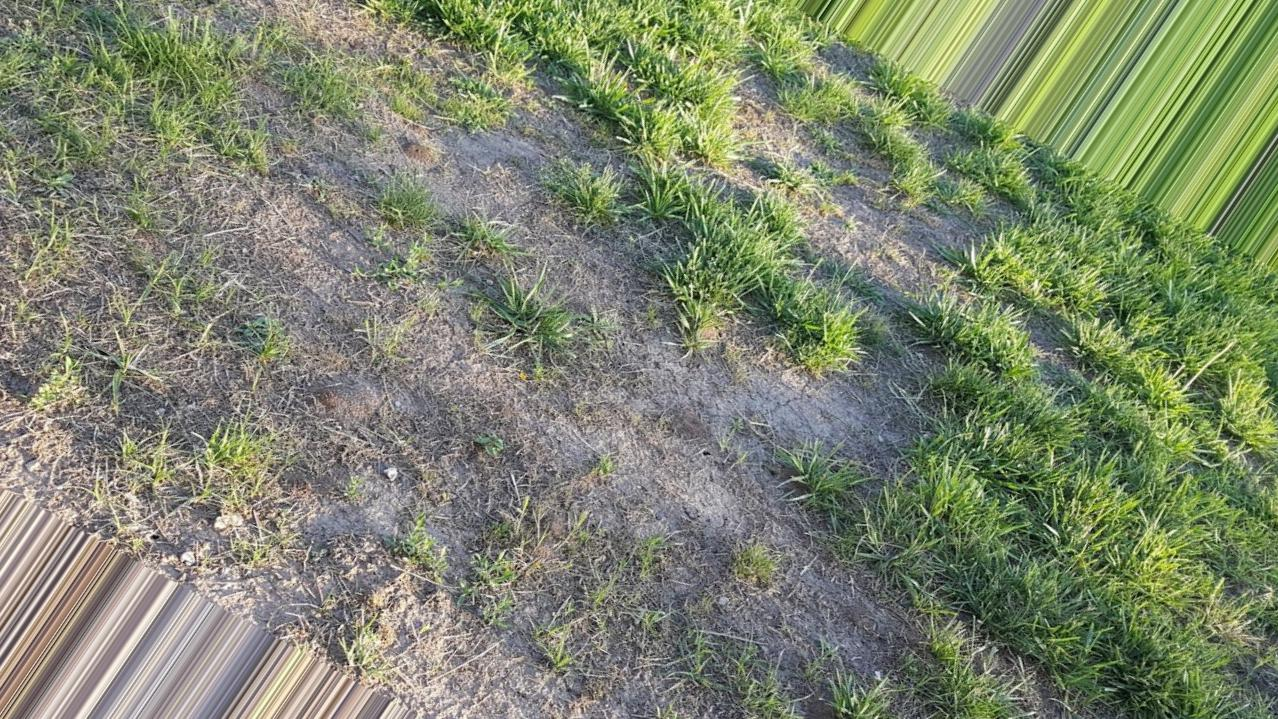patch: (458, 292, 667, 466), (487, 485, 689, 617), (220, 369, 423, 481), (793, 166, 946, 274), (245, 204, 379, 324), (369, 127, 564, 208), (732, 372, 865, 485), (714, 119, 763, 183)
